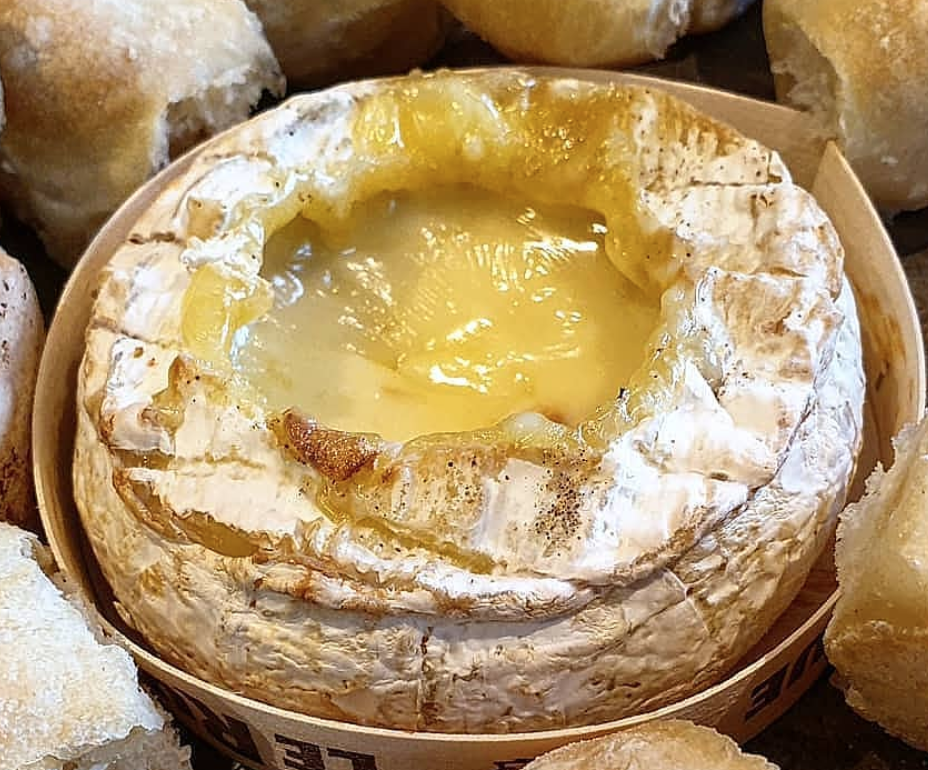camembert: (68, 68, 869, 727)
